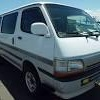van: (1, 1, 100, 92)
